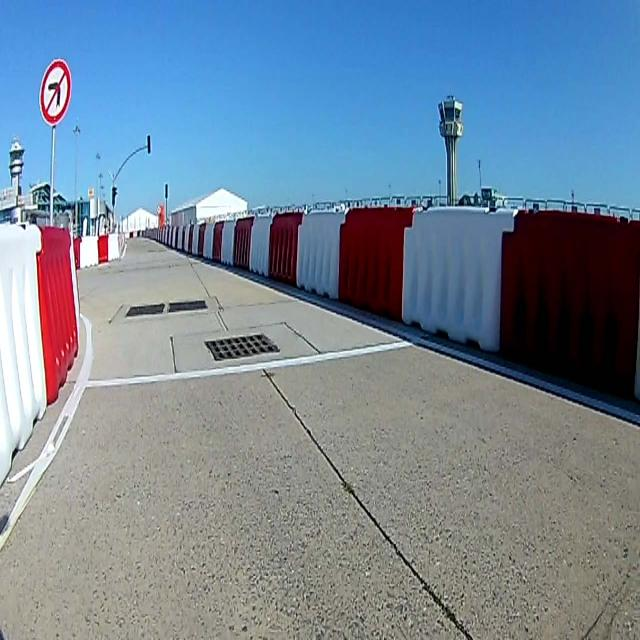soladonulmez: (38, 58, 72, 122)
